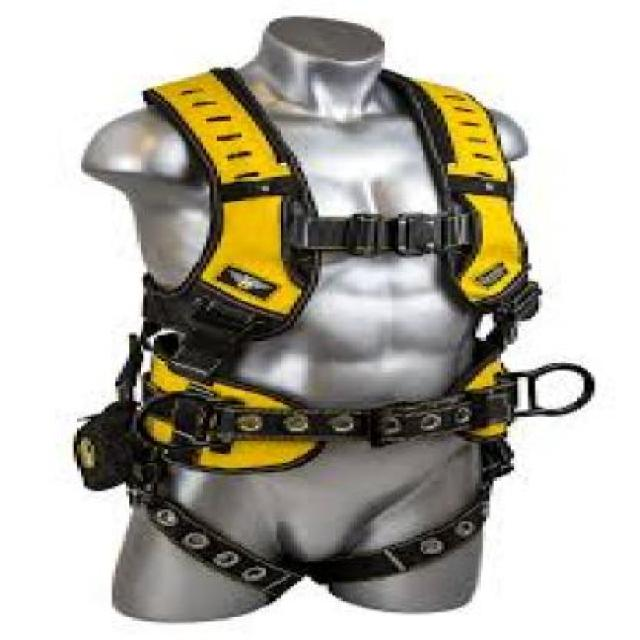Harness: (53, 64, 538, 584)
